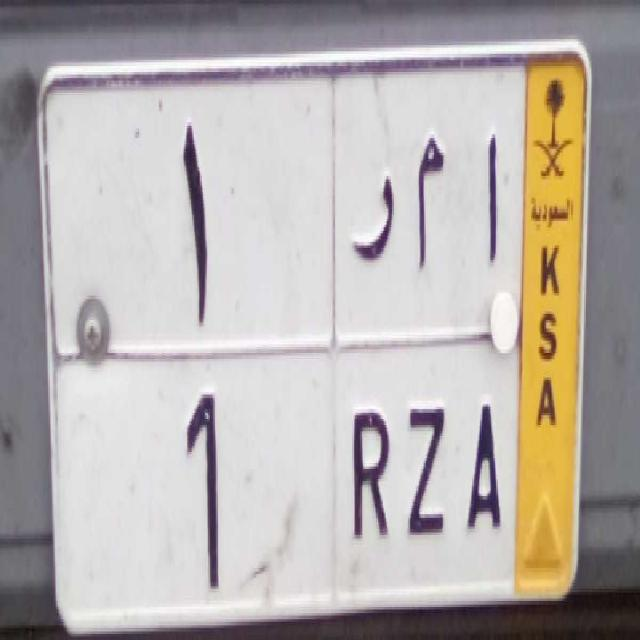license_plate: (54, 340, 518, 613)
